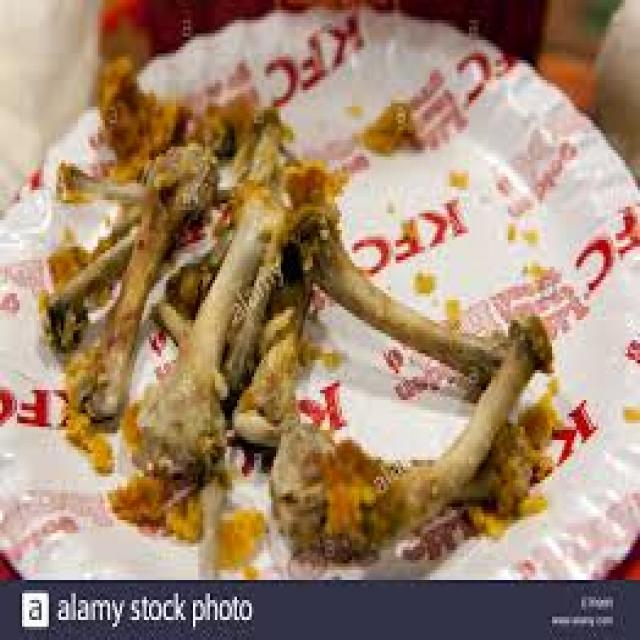organic waste: (271, 307, 550, 553), (284, 157, 511, 380), (122, 180, 288, 463), (73, 143, 215, 417), (46, 180, 230, 337), (227, 236, 310, 446), (217, 220, 286, 410), (92, 57, 186, 173), (149, 293, 230, 410), (100, 457, 198, 540), (454, 426, 530, 506), (54, 380, 112, 473), (44, 236, 103, 306), (49, 164, 144, 204), (237, 107, 293, 170), (200, 84, 256, 144), (212, 507, 264, 570), (354, 100, 415, 147), (195, 220, 228, 297), (520, 377, 557, 440), (164, 260, 210, 310), (454, 494, 508, 534), (496, 483, 547, 510), (117, 400, 142, 450), (296, 340, 342, 367), (408, 267, 440, 290), (445, 293, 459, 317)
